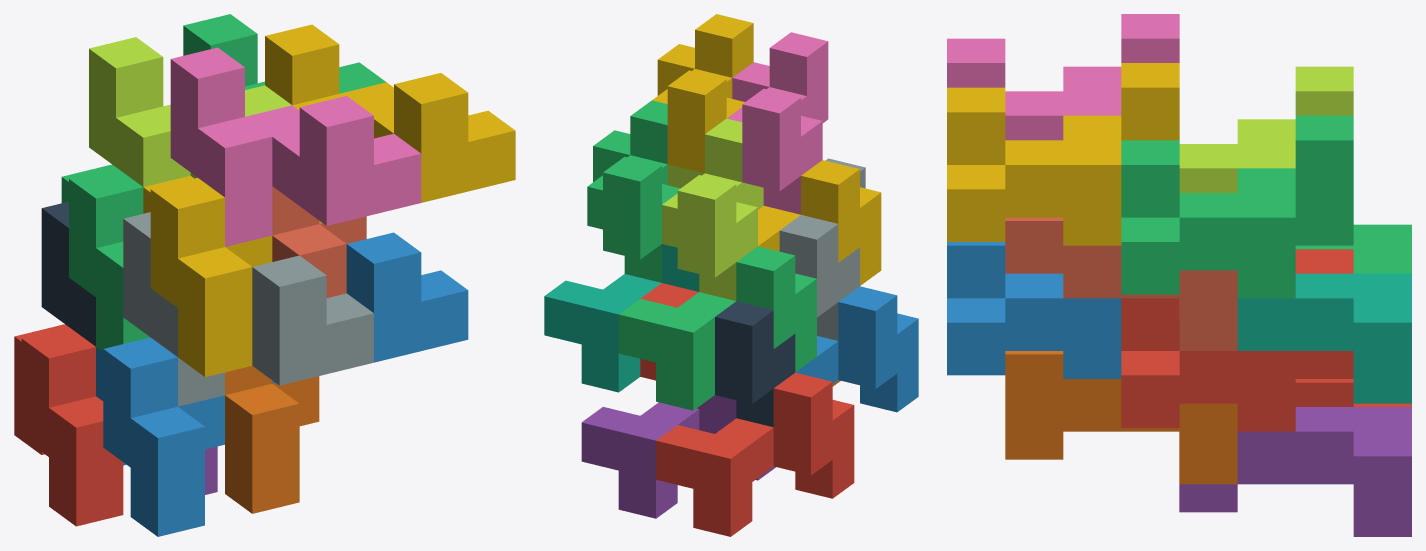
The model's file is tiling.obj.
3 renders of one model, left to right at view 1: azimuth 30°, elevation 25°; view 2: azimuth 150°, elevation 25°; view 3: azimuth 270°, elevation 25°, orthographic. The views are drawn at different scales.
Visible parts, largest first — view 1: copy_2_domain_4, copy_2_domain_2, copy_2_domain_8, copy_1_domain_2, copy_1_domain_4, copy_1_domain_1, copy_2_domain_3, copy_1_domain_6, copy_2_domain_6, copy_1_domain_3, copy_1_domain_8, copy_2_domain_1 (+2 smaller); view 2: copy_1_domain_1, copy_1_domain_3, copy_2_domain_4, copy_2_domain_3, copy_2_domain_7, copy_2_domain_8, copy_1_domain_2, copy_1_domain_5, copy_1_domain_7, copy_2_domain_1, copy_1_domain_4, copy_2_domain_2 (+1 smaller); view 3: copy_2_domain_7, copy_2_domain_8, copy_2_domain_5, copy_2_domain_6, copy_1_domain_5, copy_1_domain_7, copy_1_domain_6, copy_2_domain_4, copy_1_domain_8, copy_2_domain_3, copy_1_domain_3, copy_1_domain_1.
Boxes of the visible parts, x1=… form: copy_2_domain_4: x1=170, y1=47, x2=421, y2=246; copy_2_domain_2: x1=123, y1=212, x2=373, y2=406; copy_2_domain_8: x1=265, y1=24, x2=515, y2=223; copy_1_domain_2: x1=96, y1=337, x2=224, y2=536; copy_1_domain_4: x1=143, y1=175, x2=272, y2=377; copy_1_domain_1: x1=14, y1=324, x2=123, y2=526; copy_2_domain_3: x1=89, y1=37, x2=291, y2=186; copy_1_domain_6: x1=225, y1=366, x2=319, y2=513; copy_2_domain_6: x1=272, y1=232, x2=468, y2=383; copy_1_domain_3: x1=61, y1=164, x2=150, y2=351; copy_1_domain_8: x1=272, y1=186, x2=366, y2=297; copy_2_domain_1: x1=41, y1=201, x2=95, y2=346; copy_1_domain_1: x1=656, y1=372, x2=854, y2=536; copy_1_domain_3: x1=618, y1=246, x2=816, y2=410; copy_2_domain_4: x1=727, y1=32, x2=828, y2=214; copy_2_domain_3: x1=662, y1=118, x2=763, y2=300; copy_2_domain_7: x1=587, y1=100, x2=680, y2=282; copy_2_domain_8: x1=652, y1=14, x2=753, y2=173; copy_1_domain_2: x1=795, y1=286, x2=918, y2=412; copy_1_domain_5: x1=581, y1=395, x2=775, y2=518; copy_1_domain_7: x1=544, y1=244, x2=699, y2=392; copy_2_domain_1: x1=715, y1=301, x2=795, y2=427; copy_1_domain_4: x1=758, y1=160, x2=881, y2=285; copy_2_domain_2: x1=779, y1=158, x2=865, y2=340; copy_2_domain_7: x1=1121, y1=115, x2=1353, y2=298; copy_2_domain_8: x1=947, y1=63, x2=1179, y2=245; copy_2_domain_5: x1=1121, y1=249, x2=1353, y2=431; copy_2_domain_6: x1=947, y1=242, x2=1121, y2=378; copy_1_domain_5: x1=1179, y1=407, x2=1411, y2=536; copy_1_domain_7: x1=1237, y1=273, x2=1411, y2=403; copy_1_domain_6: x1=1005, y1=351, x2=1237, y2=484; copy_2_domain_4: x1=947, y1=14, x2=1179, y2=140; copy_1_domain_8: x1=1005, y1=217, x2=1237, y2=350; copy_2_domain_3: x1=1179, y1=66, x2=1353, y2=192; copy_1_domain_3: x1=1295, y1=224, x2=1411, y2=273; copy_1_domain_1: x1=1295, y1=379, x2=1411, y2=406.
Size of the model in its own units: 7 by 9 by 8.
